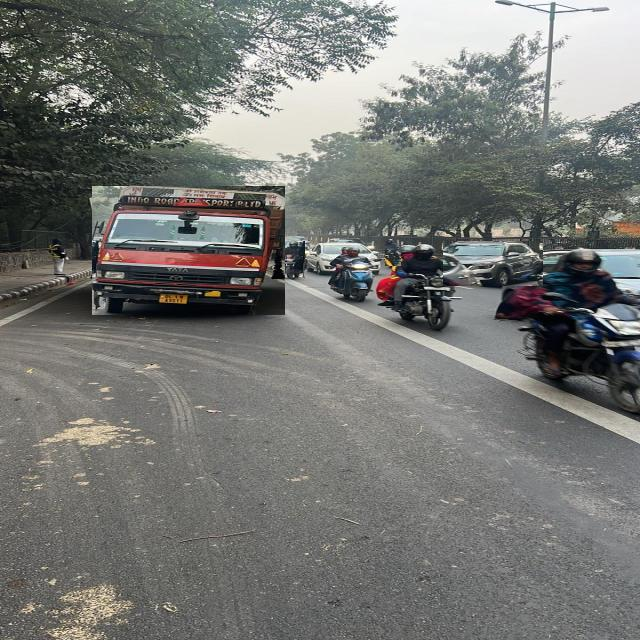car: (502, 246, 640, 290), (443, 242, 542, 286)
motorcycle: (496, 249, 640, 412), (376, 244, 460, 330), (329, 246, 383, 301), (279, 241, 304, 278), (385, 240, 400, 266)
truck: (92, 186, 284, 315)
